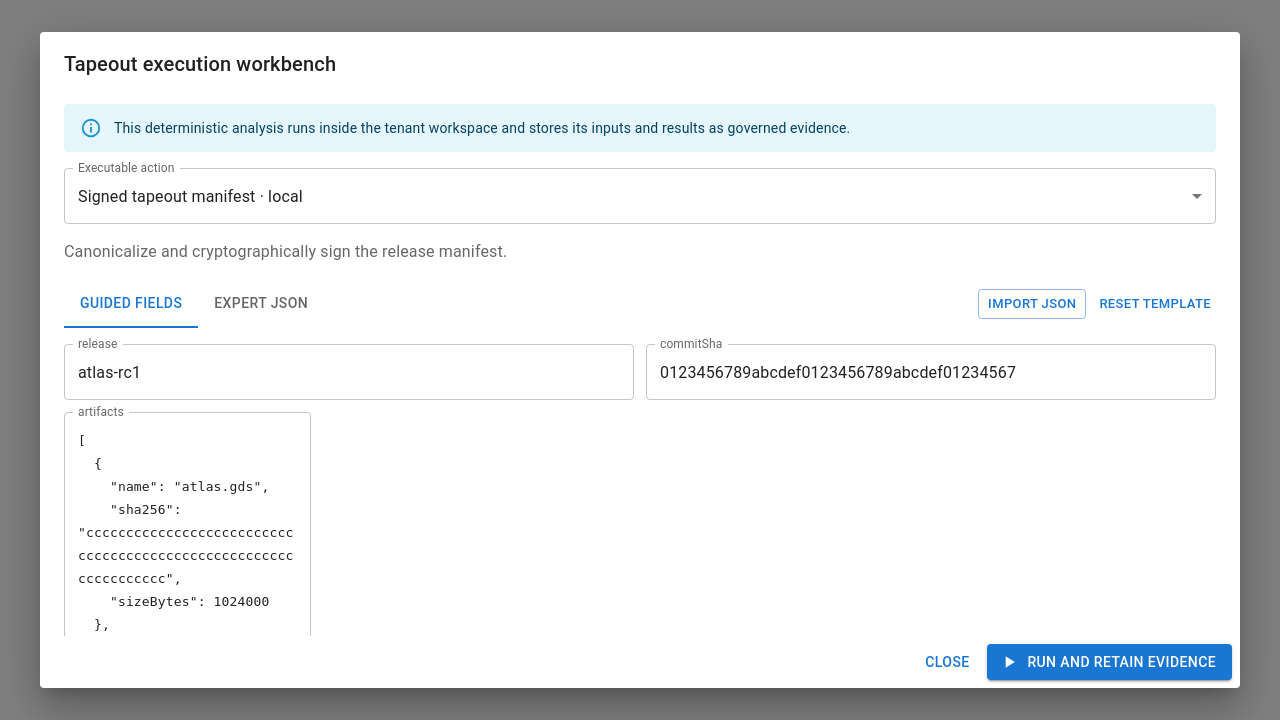
it: AI Design Studio › requests approval for the exact signed manifest returned by execution
Click the button "Run and retain evidence" at coordinates (1110, 662), box [987,644,1232,680]
(page scrolled)
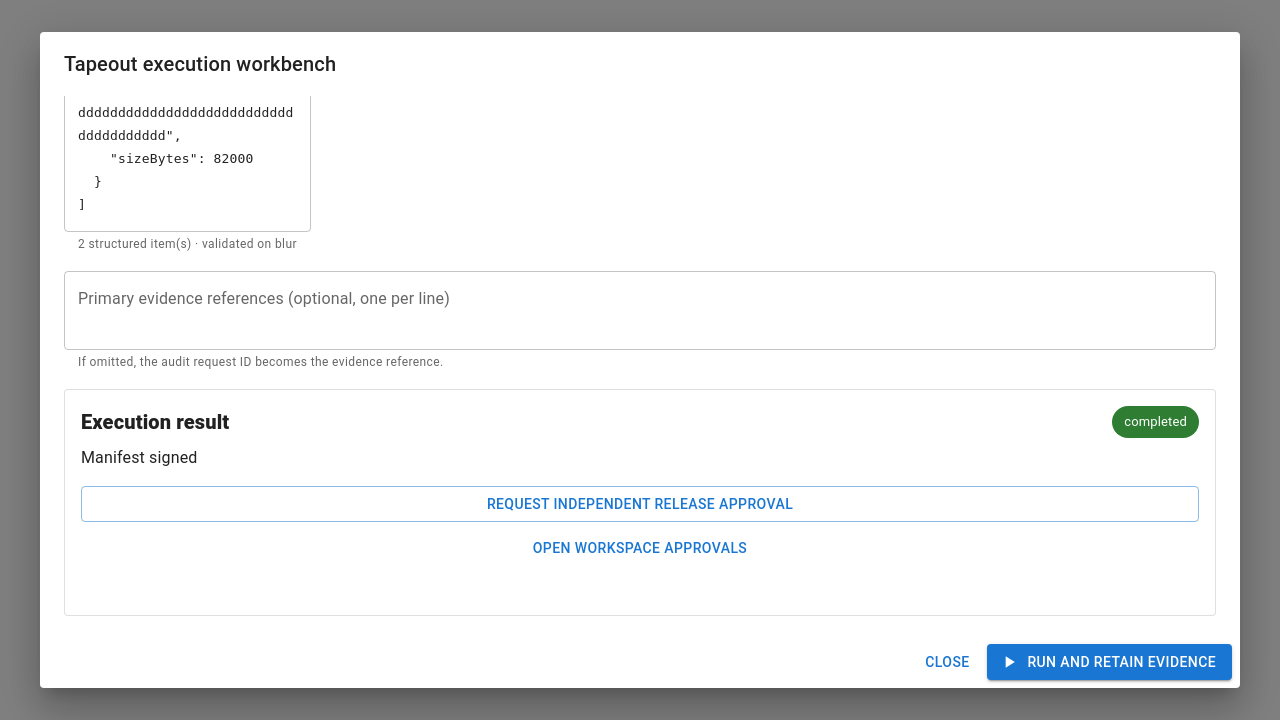
Click the button "Request independent release approval" at coordinates (640, 504), box [81,486,1199,522]
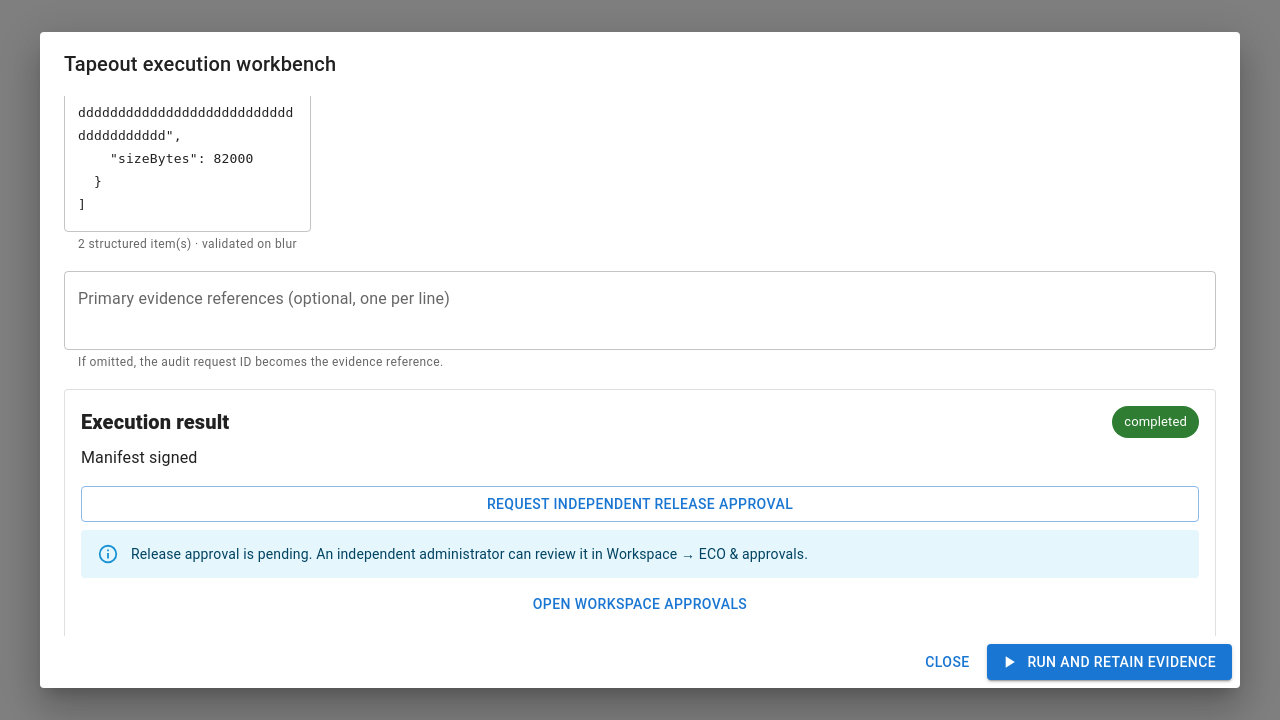
Expected: the text "Release approval is pending" is shown, [131,546,808,562]
